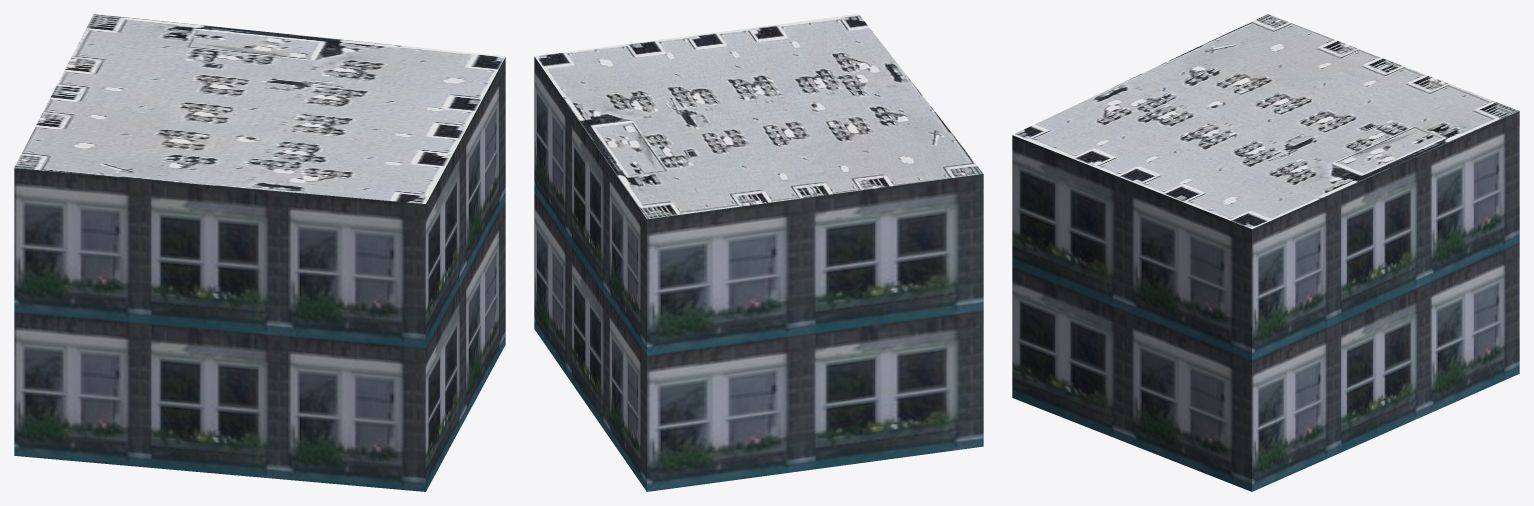
File: ResTex__4363.fbx
3 views of the same model, side by side, from view 1: azimuth 30°, elevation 25°; view 2: azimuth 150°, elevation 25°; view 3: azimuth 270°, elevation 25° (orthographic). The views are drawn at different scales.
Parts seen in each view (by area): view 1: CityEngineMaterial_11_m, CityEngineMaterial_8_m; view 2: CityEngineMaterial_11_m, CityEngineMaterial_8_m; view 3: CityEngineMaterial_11_m, CityEngineMaterial_8_m.
Part boxes in pixels (box(x1,y1,x2,y2)): CityEngineMaterial_11_m: box(14, 57, 505, 491); CityEngineMaterial_8_m: box(14, 14, 505, 203); CityEngineMaterial_11_m: box(534, 57, 983, 491); CityEngineMaterial_8_m: box(534, 14, 983, 219); CityEngineMaterial_11_m: box(1012, 111, 1519, 491); CityEngineMaterial_8_m: box(1012, 14, 1519, 228).
Bounding box in the file's own units: 10.54 × 6 × 10.5.
Materials: 2 (2 with a texture image).
